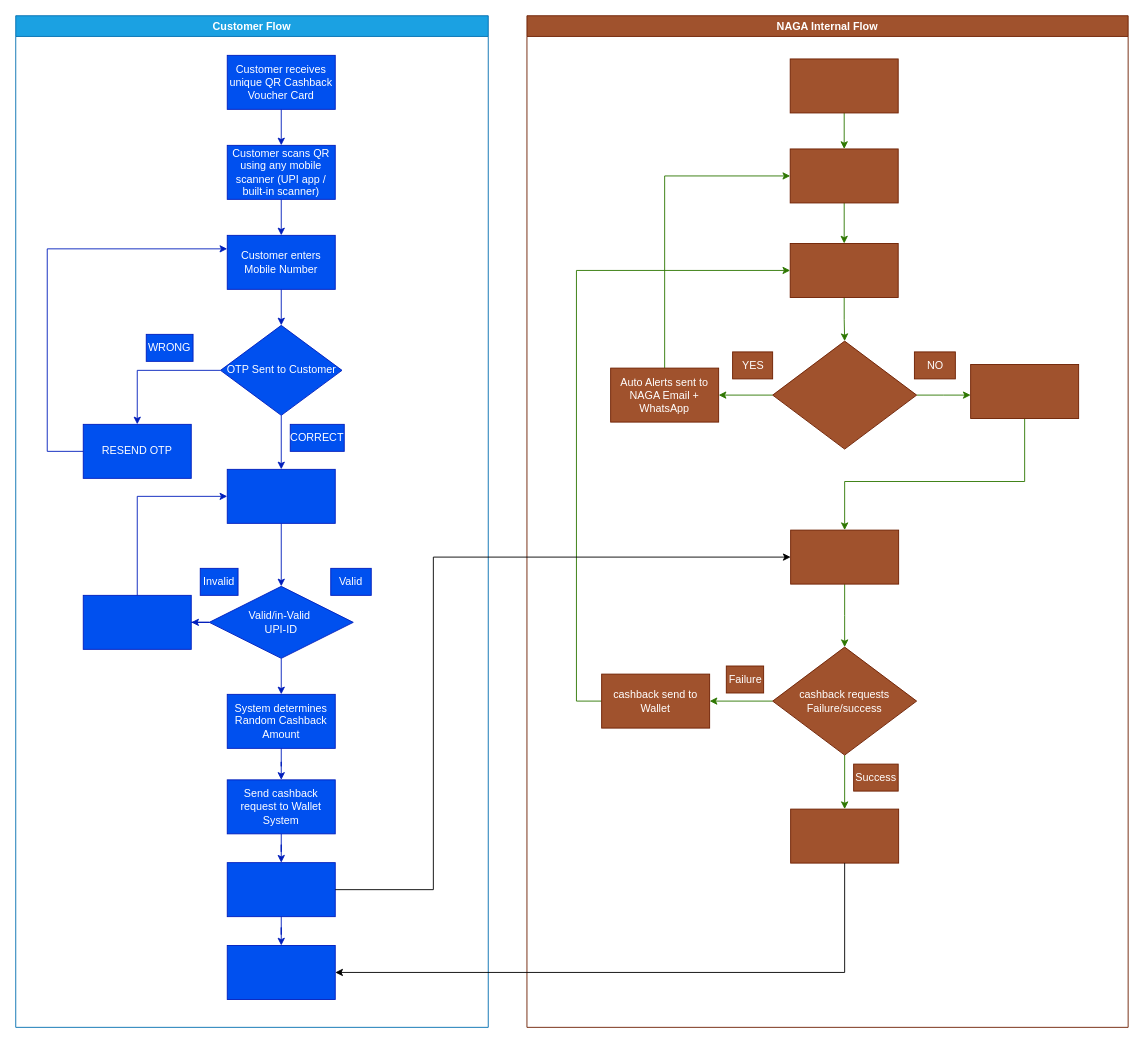
The diagram is 1144 pixels wide and 1043 high, and some of its shapes have lost their labels. Each missing label, with the centre of its shape:
"Cashback received successfully" goes at pixel 280 972.
"Customer enters UPI ID" goes at pixel 280 495.
"Fund transfer to Third-Party Wallet (Recharge)" goes at pixel 843 175.
"Funds Transferred to Wallet" goes at pixel 843 270.
"NAGA Bank Account" goes at pixel 843 85.
"Re-enter" goes at pixel 136 621.
"Successful transfer" goes at pixel 844 835.
"Wallet auto-transfers cashback to customer" goes at pixel 280 889.
"Wallet Balance < Threshold" goes at pixel 844 394.
"Wallet balance healthy" goes at pixel 1024 391.
"Wallet ready to transfer funds to customers" goes at pixel 844 556.
